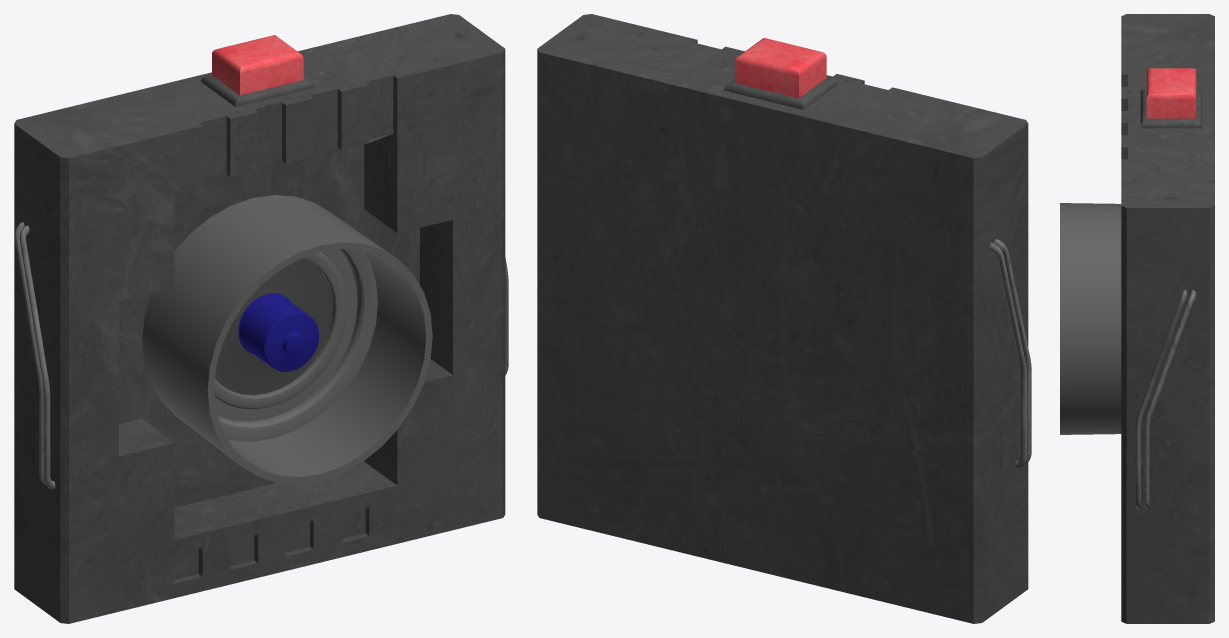
File: Recetor.fbx
3 renders of one model, left to right at view 1: azimuth 30°, elevation 25°; view 2: azimuth 150°, elevation 25°; view 3: azimuth 270°, elevation 25°, orthographic. The views are drawn at different scales.
Visible parts, largest first — view 1: Recetor.001; view 2: Recetor.001; view 3: Recetor.001.
Part boxes in pixels (x1,y1,x2,y2): Recetor.001: [14, 14, 508, 623]; Recetor.001: [537, 14, 1031, 623]; Recetor.001: [1060, 14, 1214, 623].
Size of the model in its own units: 1.03 by 1.06 by 0.3332.
Materials: 4 (4 with a texture image).
